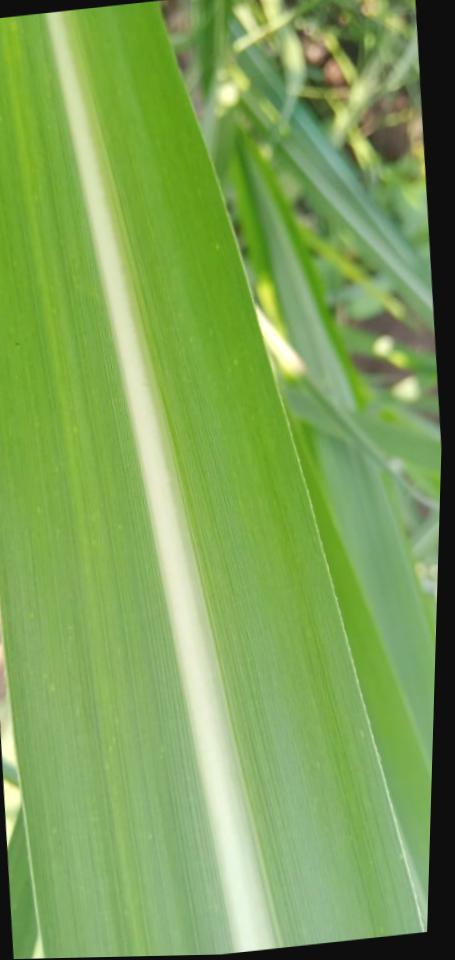Healthy: (0, 2, 420, 958), (299, 450, 432, 911), (7, 808, 43, 959)
